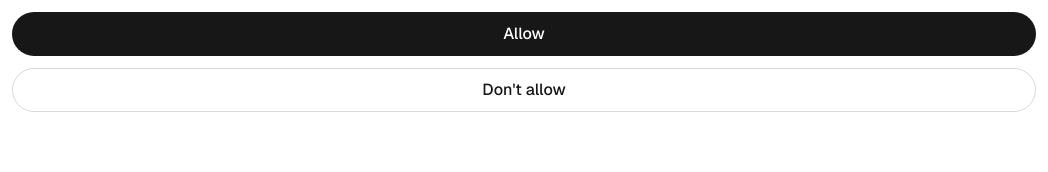
Test case: a failure says so and goes nowhere
Step 1. Click the button "Allow" → [524, 34], box [12, 12, 1036, 56]
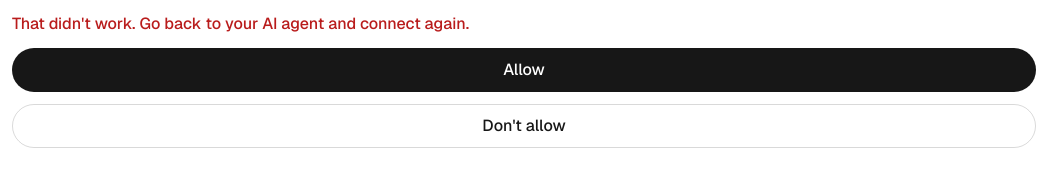
Now the message reads "That didn't work. Go back to your AI agent and connect again.", box [12, 13, 469, 34]
